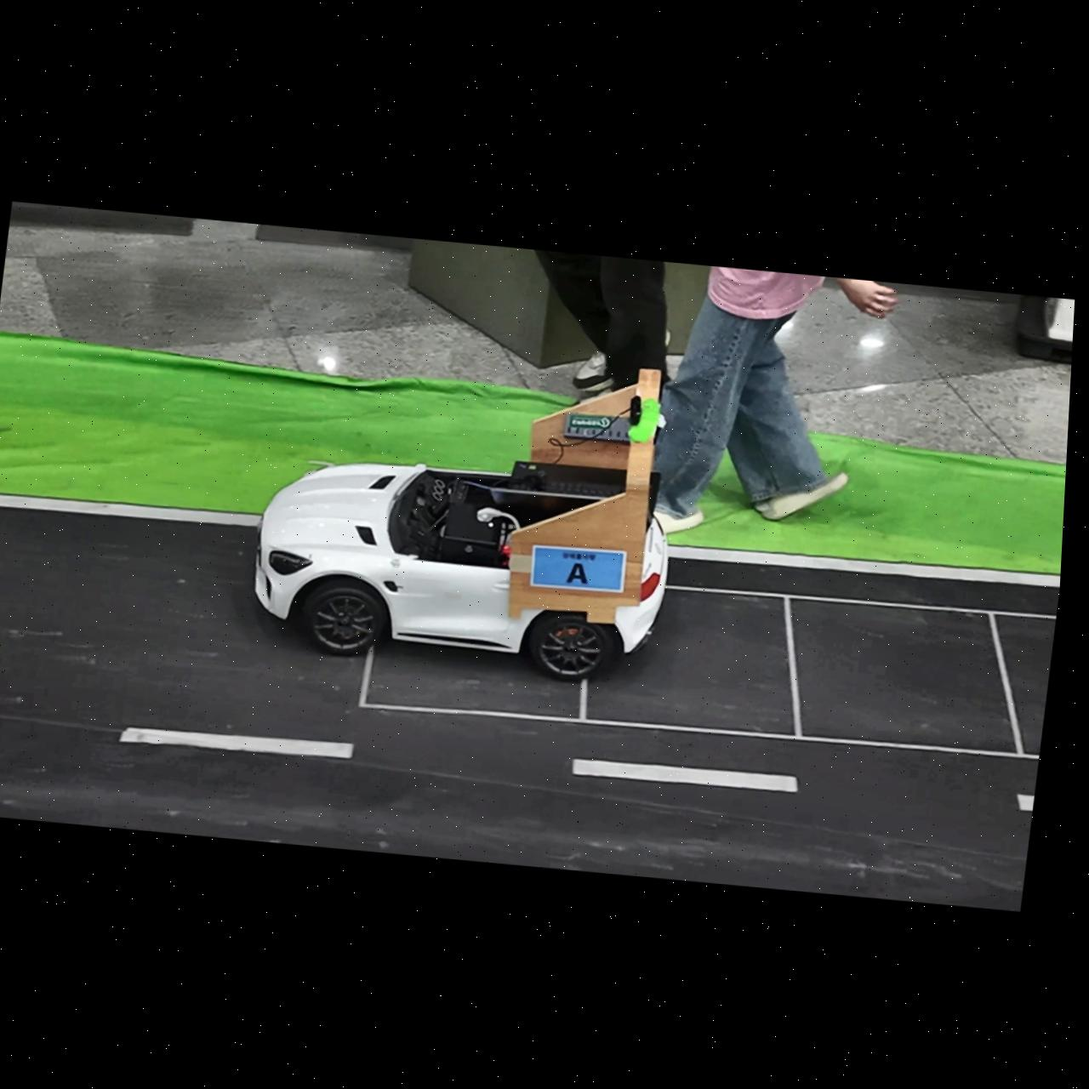broken_line: (572, 758, 798, 792), (119, 727, 354, 759), (1017, 794, 1034, 810)
